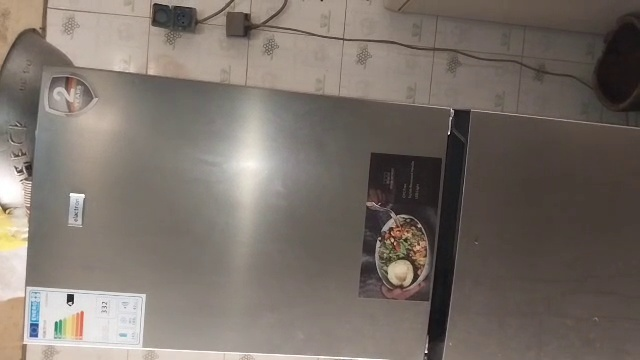refrigerator: (22, 53, 640, 360)
